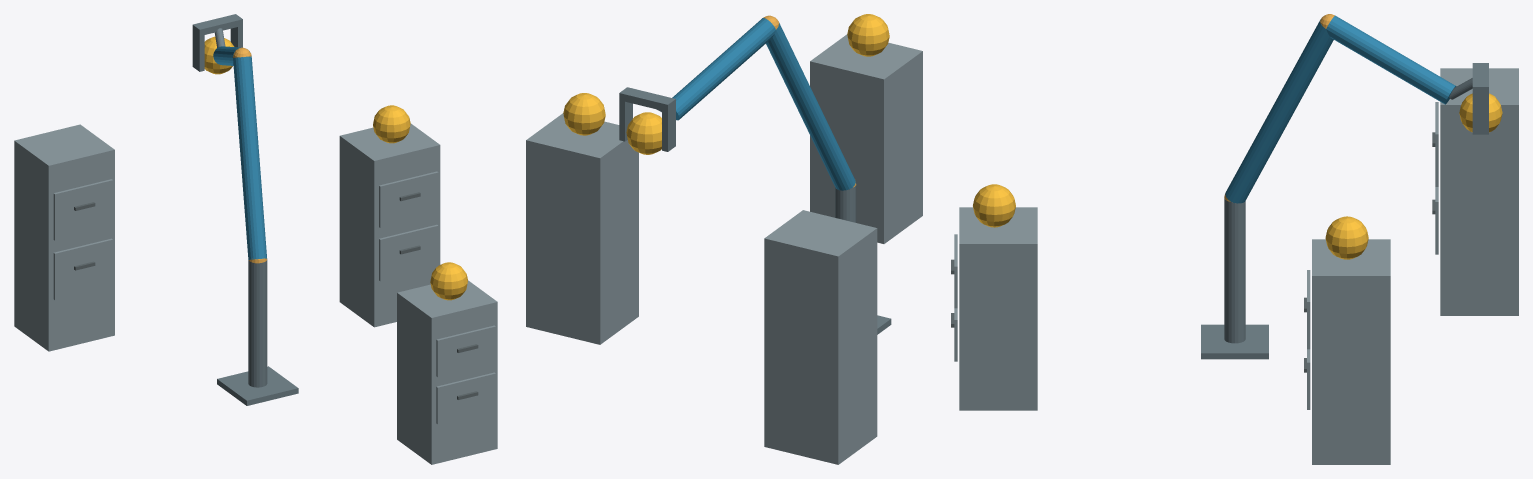
3 views of the same model, side by side, from view 1: azimuth 30°, elevation 25°; view 2: azimuth 150°, elevation 25°; view 3: azimuth 270°, elevation 25° (orthographic). The views are drawn at different scales.
Parts seen in each view (by area): view 1: cabinet_3 body, cabinet_2 body, cabinet_1 body, moving link 1, cabinet_3 drawer front.001, cabinet_3 drawer front, cabinet_2 drawer front.001, cabinet_2 drawer front, fixed post, cabinet_1 drawer front, cabinet_1 drawer front.001, pedestal (+4 smaller); view 2: cabinet_3 body, cabinet_2 body, cabinet_1 body, moving link 1, moving link 2, released ball_1, released ball_2, ball ball_3, gripper bridge, fixed post, gripper finger -1, gripper finger 1; view 3: cabinet_3 body, cabinet_2 body, cabinet_1 body, moving link 1, moving link 2, fixed post, pedestal, released ball_2, released ball_1, ball ball_3, gripper finger 1.
Boxes of the visible parts, x1,y1,x2,y2 form: cabinet_3 body: [14, 124, 114, 351]; cabinet_2 body: [339, 123, 440, 327]; cabinet_1 body: [397, 280, 497, 464]; moving link 1: [233, 56, 266, 259]; cabinet_3 drawer front.001: [53, 179, 112, 240]; cabinet_3 drawer front: [53, 238, 112, 299]; cabinet_2 drawer front.001: [379, 171, 438, 227]; cabinet_2 drawer front: [379, 224, 438, 281]; fixed post: [248, 259, 267, 387]; cabinet_1 drawer front: [436, 372, 495, 424]; cabinet_1 drawer front.001: [436, 325, 495, 377]; pedestal: [217, 366, 298, 405]; cabinet_3 body: [764, 210, 877, 464]; cabinet_2 body: [526, 113, 638, 344]; cabinet_1 body: [810, 34, 922, 243]; moving link 1: [766, 22, 855, 190]; moving link 2: [672, 18, 775, 120]; released ball_1: [847, 14, 889, 56]; released ball_2: [563, 93, 605, 135]; ball ball_3: [626, 112, 661, 154]; gripper bridge: [619, 87, 675, 111]; fixed post: [835, 185, 856, 222]; gripper finger -1: [662, 106, 675, 151]; gripper finger 1: [619, 100, 632, 141]; cabinet_3 body: [1440, 68, 1518, 315]; cabinet_2 body: [1312, 239, 1390, 464]; cabinet_1 body: [959, 207, 1037, 410]; moving link 1: [1225, 19, 1333, 203]; moving link 2: [1326, 15, 1456, 104]; fixed post: [1224, 198, 1245, 343]; pedestal: [1201, 324, 1268, 359]; released ball_2: [1325, 216, 1368, 259]; released ball_1: [973, 184, 1015, 227]; ball ball_3: [1459, 93, 1502, 132]; gripper finger 1: [1472, 94, 1488, 134].
Size of the model in its own units: 1.62 by 1.4 by 2.1.
